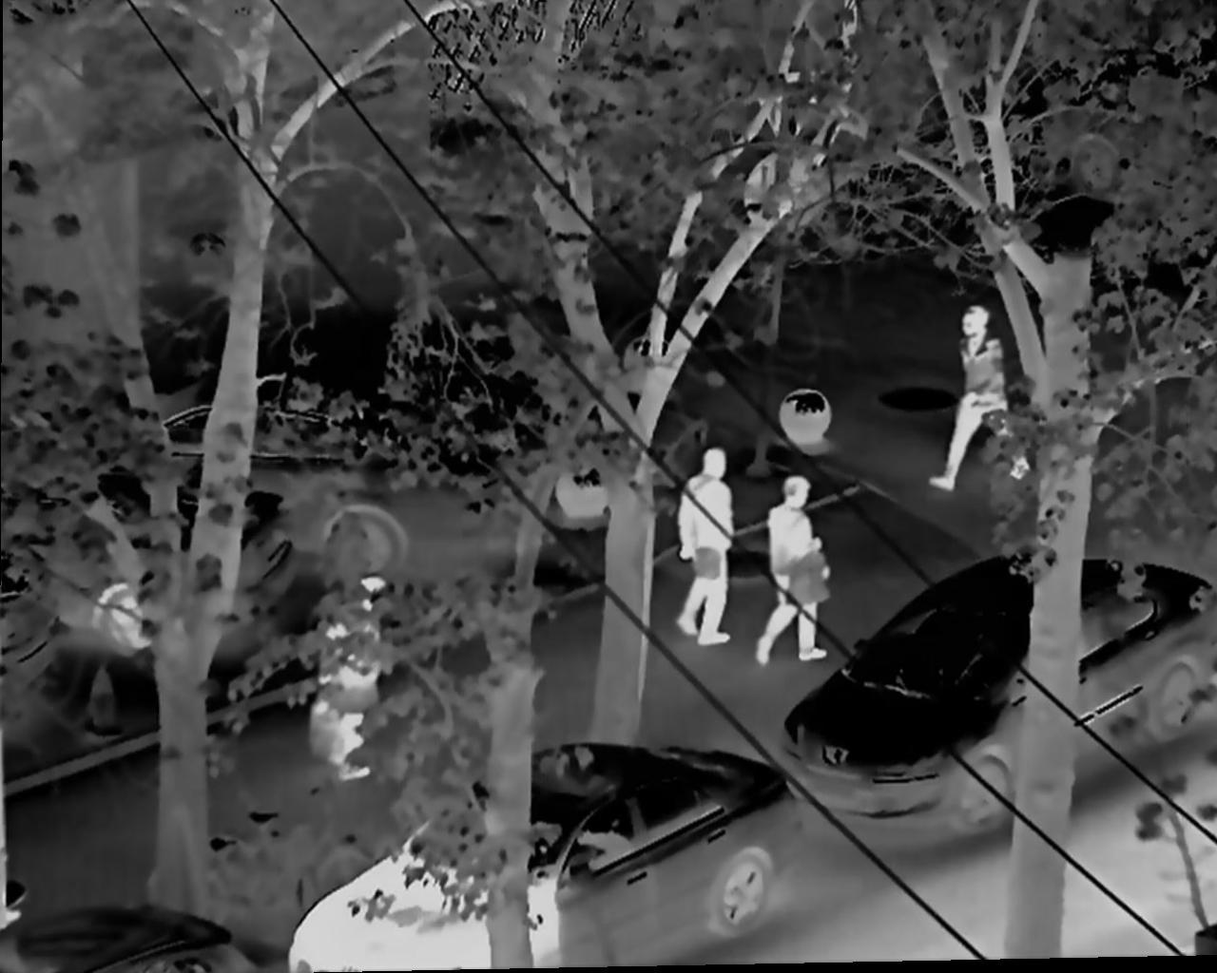person: (929, 305, 1026, 482), (760, 476, 834, 663), (673, 447, 733, 646)
